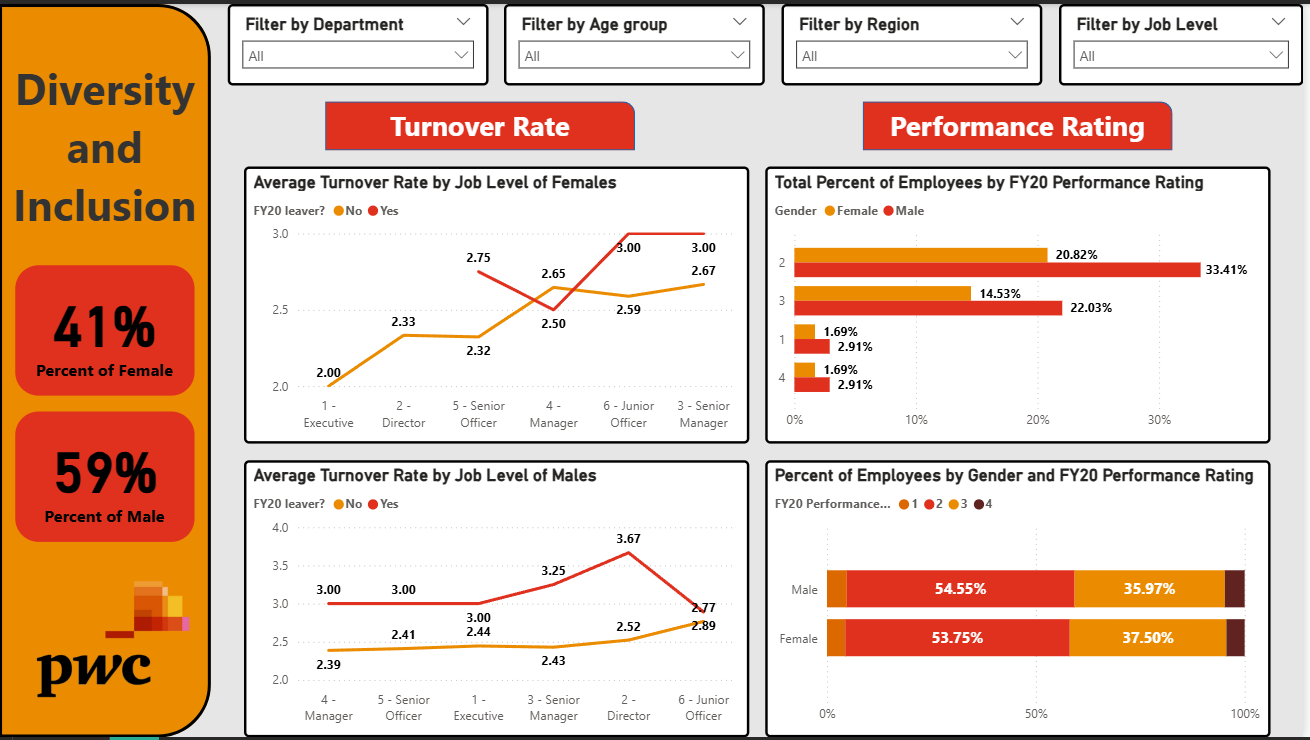

The dashboard page shown, as its layout file describes it:
{"tool":"powerbi","page":{"name":"Page 2","canvas":[1280,720],"ordinal":1},"visuals":[{"type":"shape","box":[0,0,208,720],"z":0},{"type":"textbox","box":[0,48,208,192],"z":1000},{"type":"slicer","fields":{"Values":["Pharma Group AG.Department @01.07.2020"]},"box":[224,0,256,80],"z":2000},{"type":"slicer","fields":{"Values":["Pharma Group AG.Age @01.07.2020"]},"box":[496,0,256,80],"z":3000},{"type":"slicer","fields":{"Values":["Pharma Group AG.Job Level after FY20 promotions"]},"box":[1040,0,240,80],"z":4000},{"type":"slicer","fields":{"Values":["Pharma Group AG.Broad region group: nationality 1"]},"box":[768,0,256,80],"z":5000},{"type":"card","fields":{"Values":["Pharma Group AG.Percent of Female"]},"box":[16,256,176,128],"z":6000},{"type":"card","fields":{"Values":["Pharma Group AG.Percent of Male"]},"box":[16,400,176,128],"z":7000},{"type":"shape","box":[320,96,304,48],"z":8000},{"type":"textbox","box":[352,96,240,48],"z":9000},{"type":"shape","box":[848,96,304,48],"z":10000},{"type":"textbox","box":[848,96,304,48],"z":11000},{"type":"image","box":[32,544,160,160],"z":12000},{"type":"lineChart","title":"Average Turnover Rate by Job Level of Females","fields":{"Category":["Pharma Group AG.Job Level after FY20 promotions"],"Y":["Avg(Pharma Group AG.FY19 Performance Rating)"],"Series":["Pharma Group AG.FY20 leaver?"]},"box":[240,160,496,272],"z":13000},{"type":"lineChart","title":"Average Turnover Rate by Job Level of Males","fields":{"Category":["Pharma Group AG.Job Level after FY20 promotions"],"Y":["Avg(Pharma Group AG.FY19 Performance Rating)"],"Series":["Pharma Group AG.FY20 leaver?"]},"box":[240,448,496,272],"z":14000},{"type":"clusteredBarChart","title":"Total Percent of Employees by FY20 Performance Rating","fields":{"Category":["Pharma Group AG.FY20 Performance Rating"],"Y":["CountNonNull(Pharma Group AG.Employee ID)"],"Series":["Pharma Group AG.Gender"]},"box":[752,160,496,272],"z":15000},{"type":"hundredPercentStackedBarChart","title":"Percent of Employees by Gender and FY20 Performance Rating","fields":{"Y":["CountNonNull(Pharma Group AG.Employee ID)"],"Series":["Pharma Group AG.FY20 Performance Rating"],"Category":["Pharma Group AG.Gender"]},"box":[752,448,496,272],"z":16000}]}

Visuals, with their boxes in screenshot pixels (x1, y1, x2, y2), scaled from the page's 1280x720 canvas onto the 1310x740 screenshot:
shape: 0 0 213 739
textbox: 0 49 213 247
slicer - Pharma Group AG.Department @01.07.2020: 229 0 491 82
slicer - Pharma Group AG.Age @01.07.2020: 508 0 770 82
slicer - Pharma Group AG.Job Level after FY20 promotions: 1064 0 1309 82
slicer - Pharma Group AG.Broad region group: nationality 1: 786 0 1048 82
card - Pharma Group AG.Percent of Female: 16 263 196 395
card - Pharma Group AG.Percent of Male: 16 411 196 543
shape: 328 99 639 148
textbox: 360 99 606 148
shape: 868 99 1179 148
textbox: 868 99 1179 148
image: 33 559 196 724
"Average Turnover Rate by Job Level of Females" lineChart: 246 164 753 444
"Average Turnover Rate by Job Level of Males" lineChart: 246 460 753 739
"Total Percent of Employees by FY20 Performance Rating" clusteredBarChart: 770 164 1277 444
"Percent of Employees by Gender and FY20 Performance Rating" hundredPercentStackedBarChart: 770 460 1277 739
